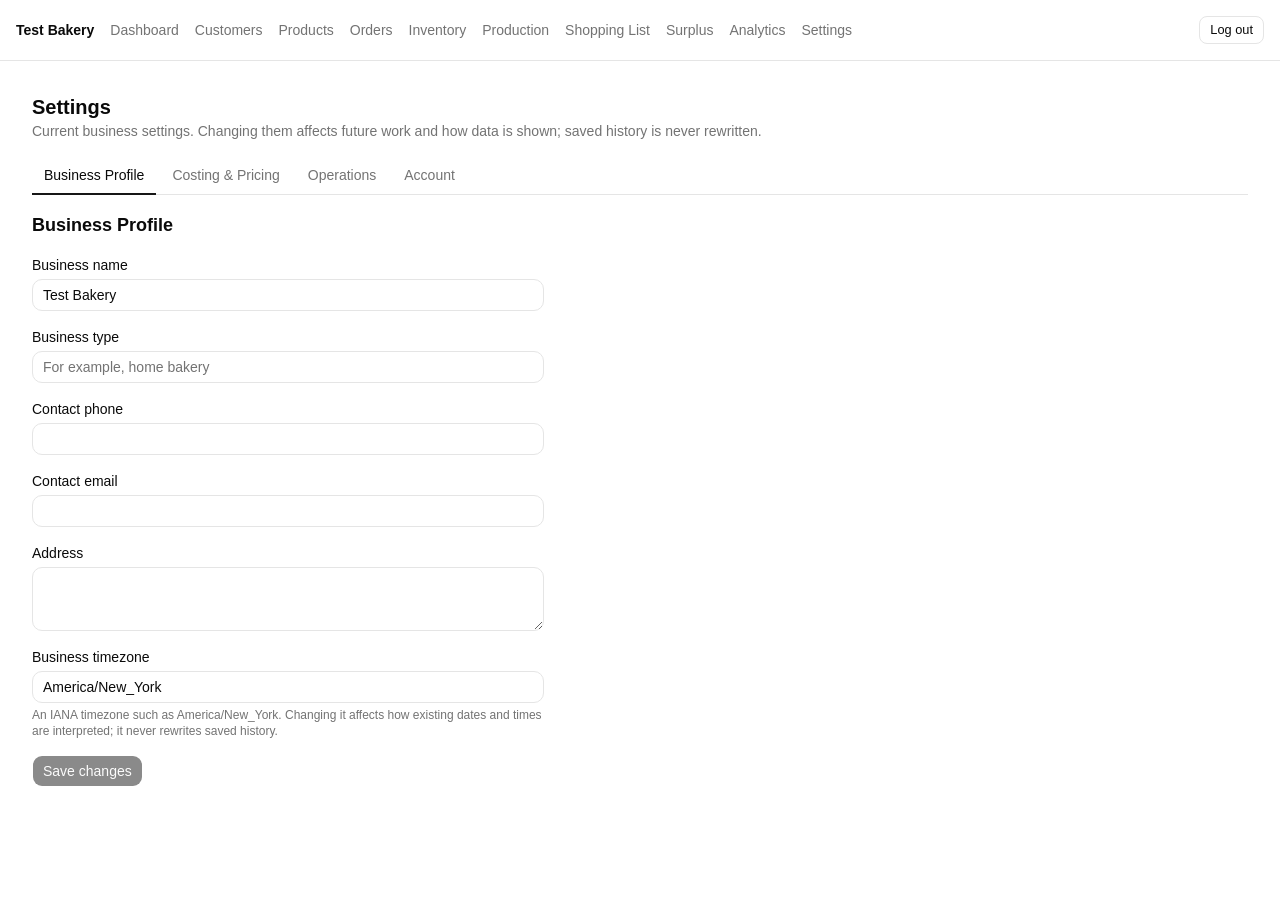
Business Profile › saves only the changed fields with the loaded version, shows Saved, and updates the header
expect the button "Save changes" is disabled: met, box [32, 755, 143, 787]
Replace the text in the field labelled "Business name" with "  Renamed Bakery  " at (288, 295), box [32, 279, 544, 311]
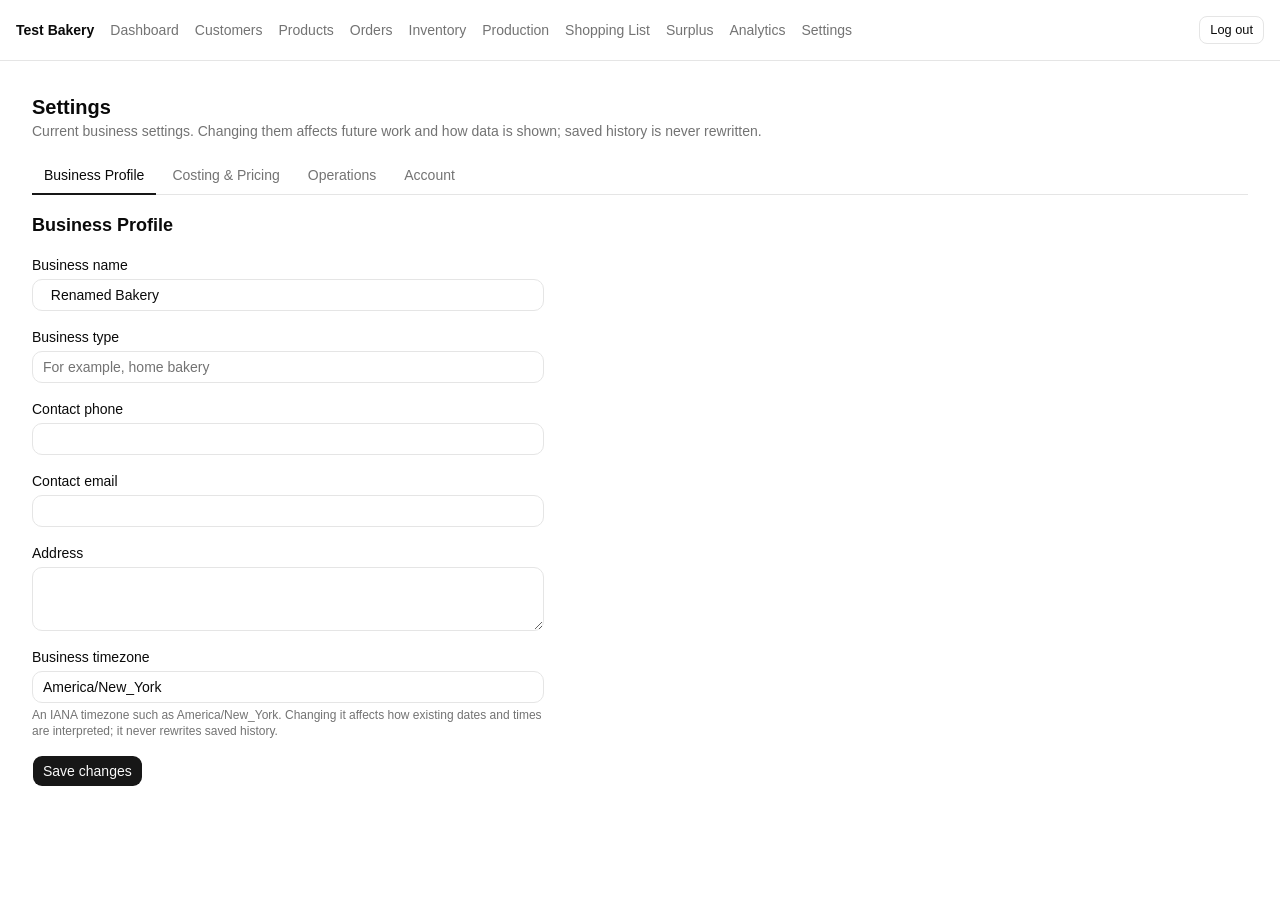
expect the button "Save changes" is enabled: met
Click the button "Save changes" at (87, 771), box [32, 755, 143, 787]
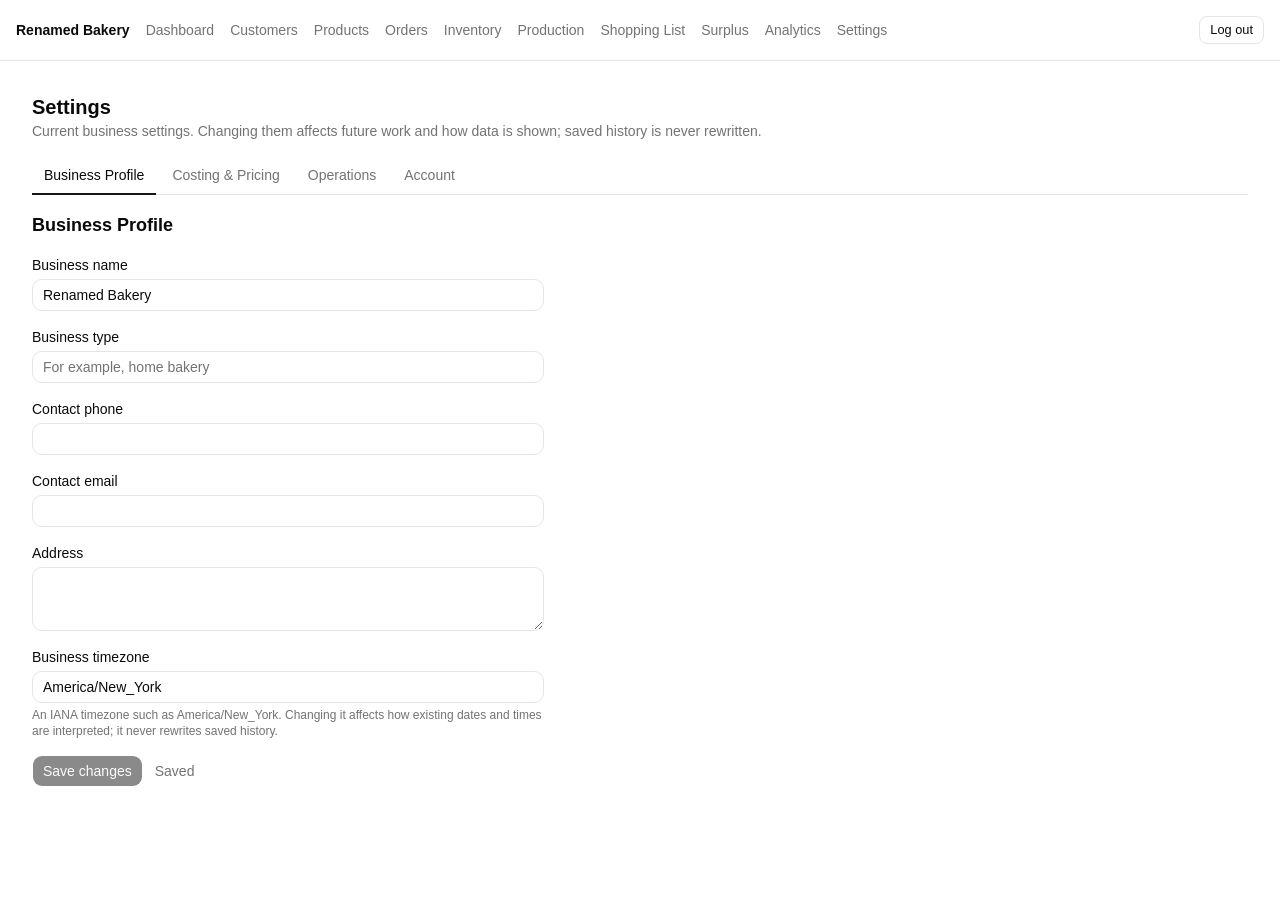
expect the message reads "Saved": met, box [155, 763, 194, 779]
expect the text "Renamed Bakery" is shown: met, box [16, 20, 130, 40]
expect the button "Save changes" is disabled: met, box [32, 755, 143, 787]
